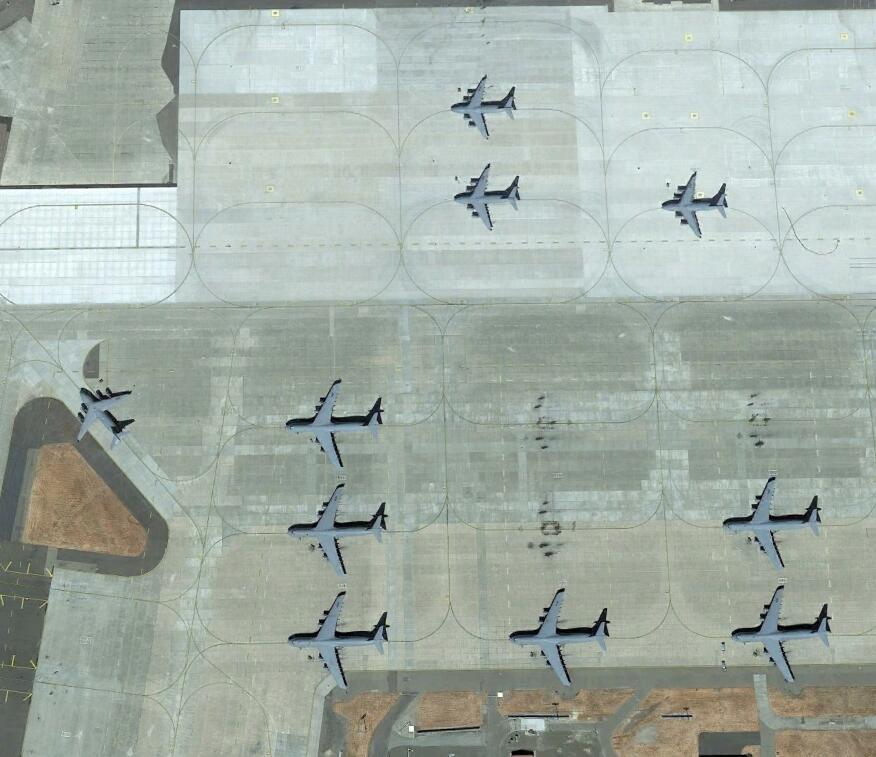A3: (451, 164, 521, 232), (660, 171, 727, 238), (450, 74, 516, 140), (74, 384, 135, 444)
A4: (725, 585, 831, 686), (506, 588, 612, 689), (288, 590, 389, 692), (724, 475, 821, 573), (288, 482, 387, 578), (286, 376, 380, 474)
